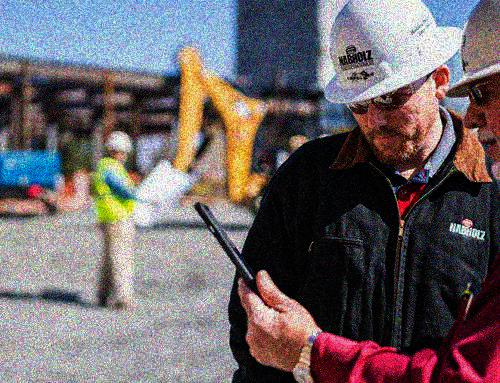helmet: (323, 1, 466, 157), (443, 1, 500, 166), (105, 128, 136, 163)
